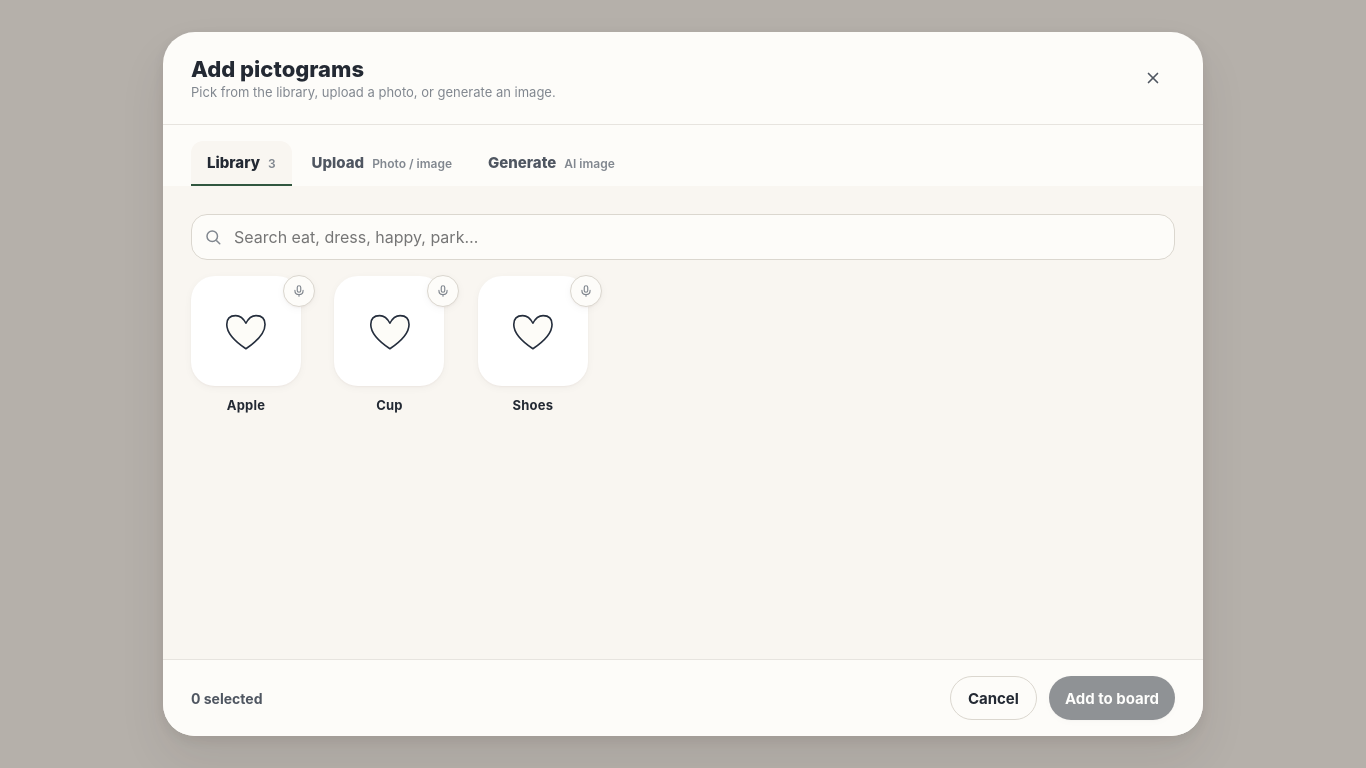
Scenario: PictoPicker › filters the library by search query
Step 1. Type "app" into the search field with placeholder "Search eat, dress, happy, park…" → [698, 237], box [234,223,1162,251]
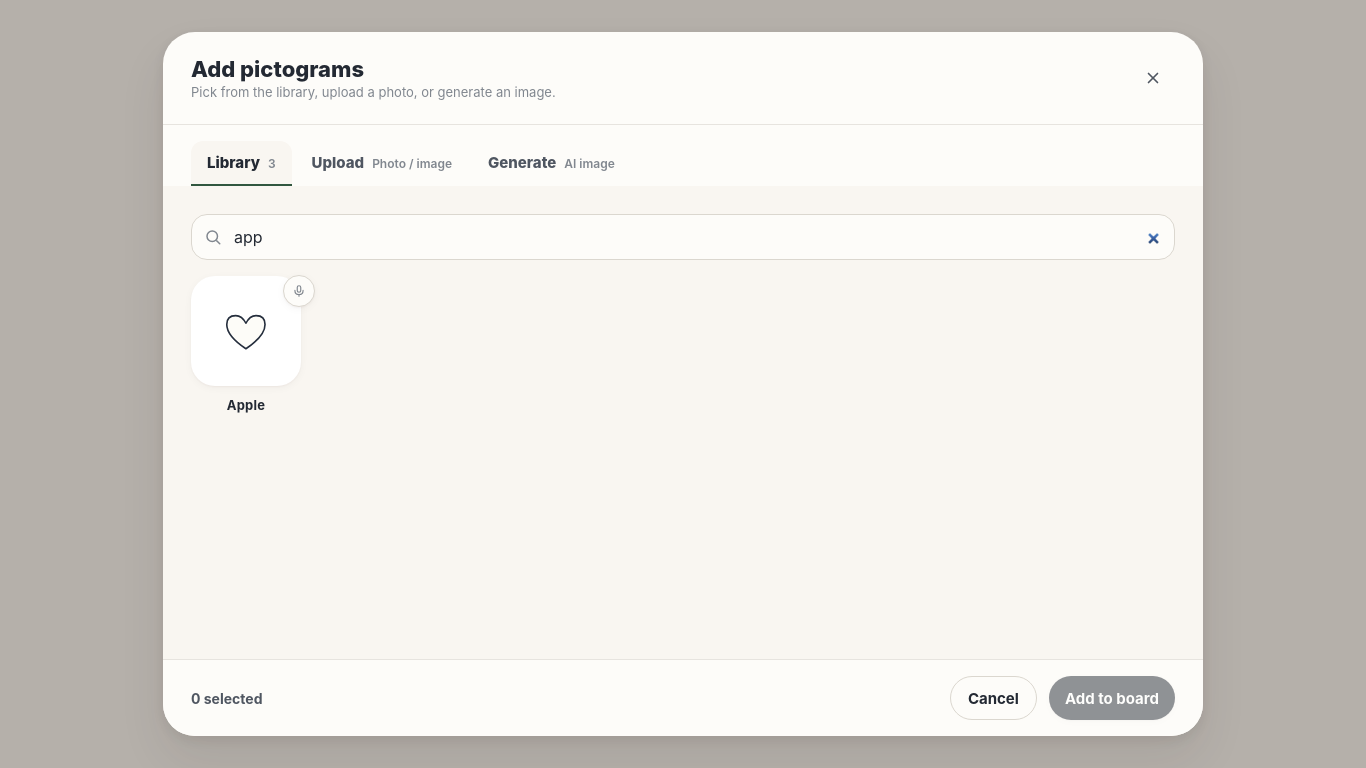
expect the text "Apple" is shown: met, box [227,398,265,414]
expect the button "Cup" is gone: met
expect the button "Shoes" is gone: met
